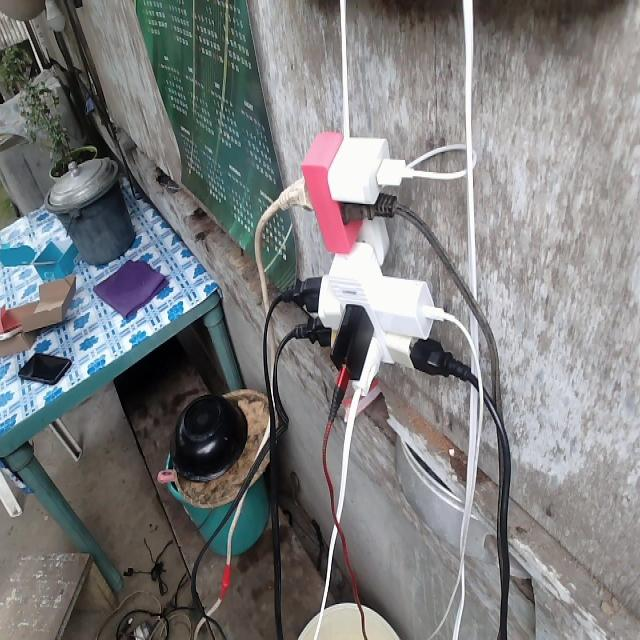-: (280, 121, 445, 398)
